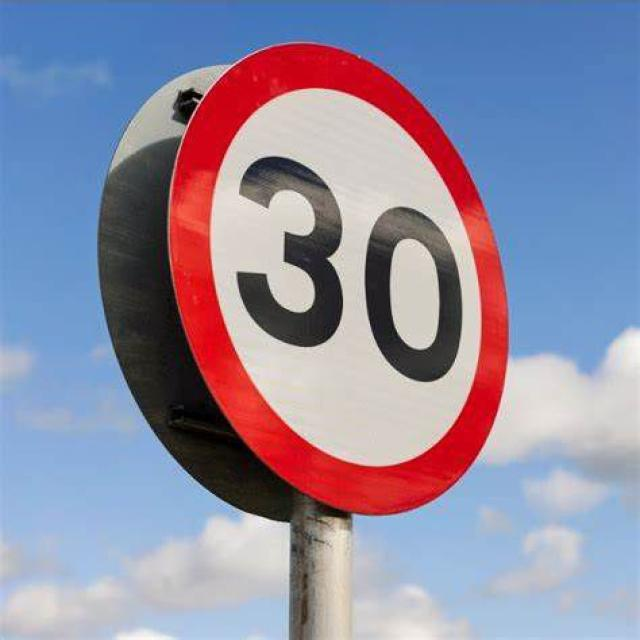speedlimit_30: (98, 22, 511, 517)
